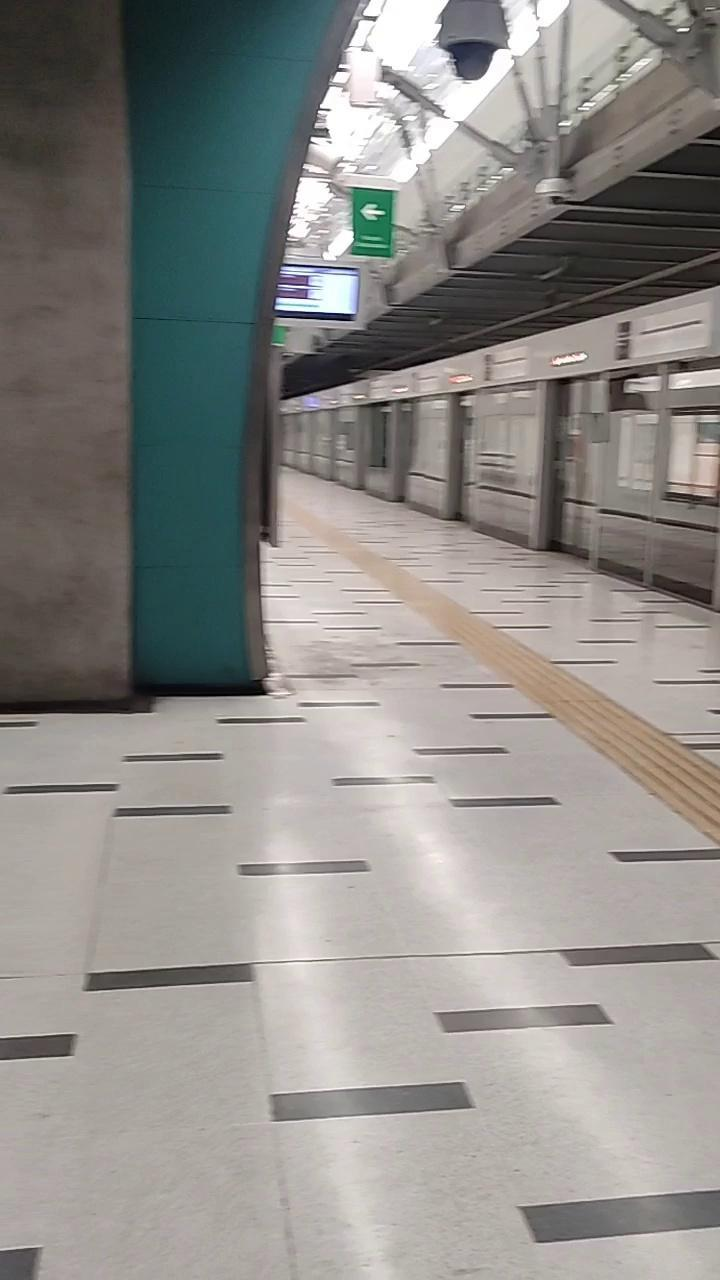handicapped symbol: (354, 192, 395, 252)
